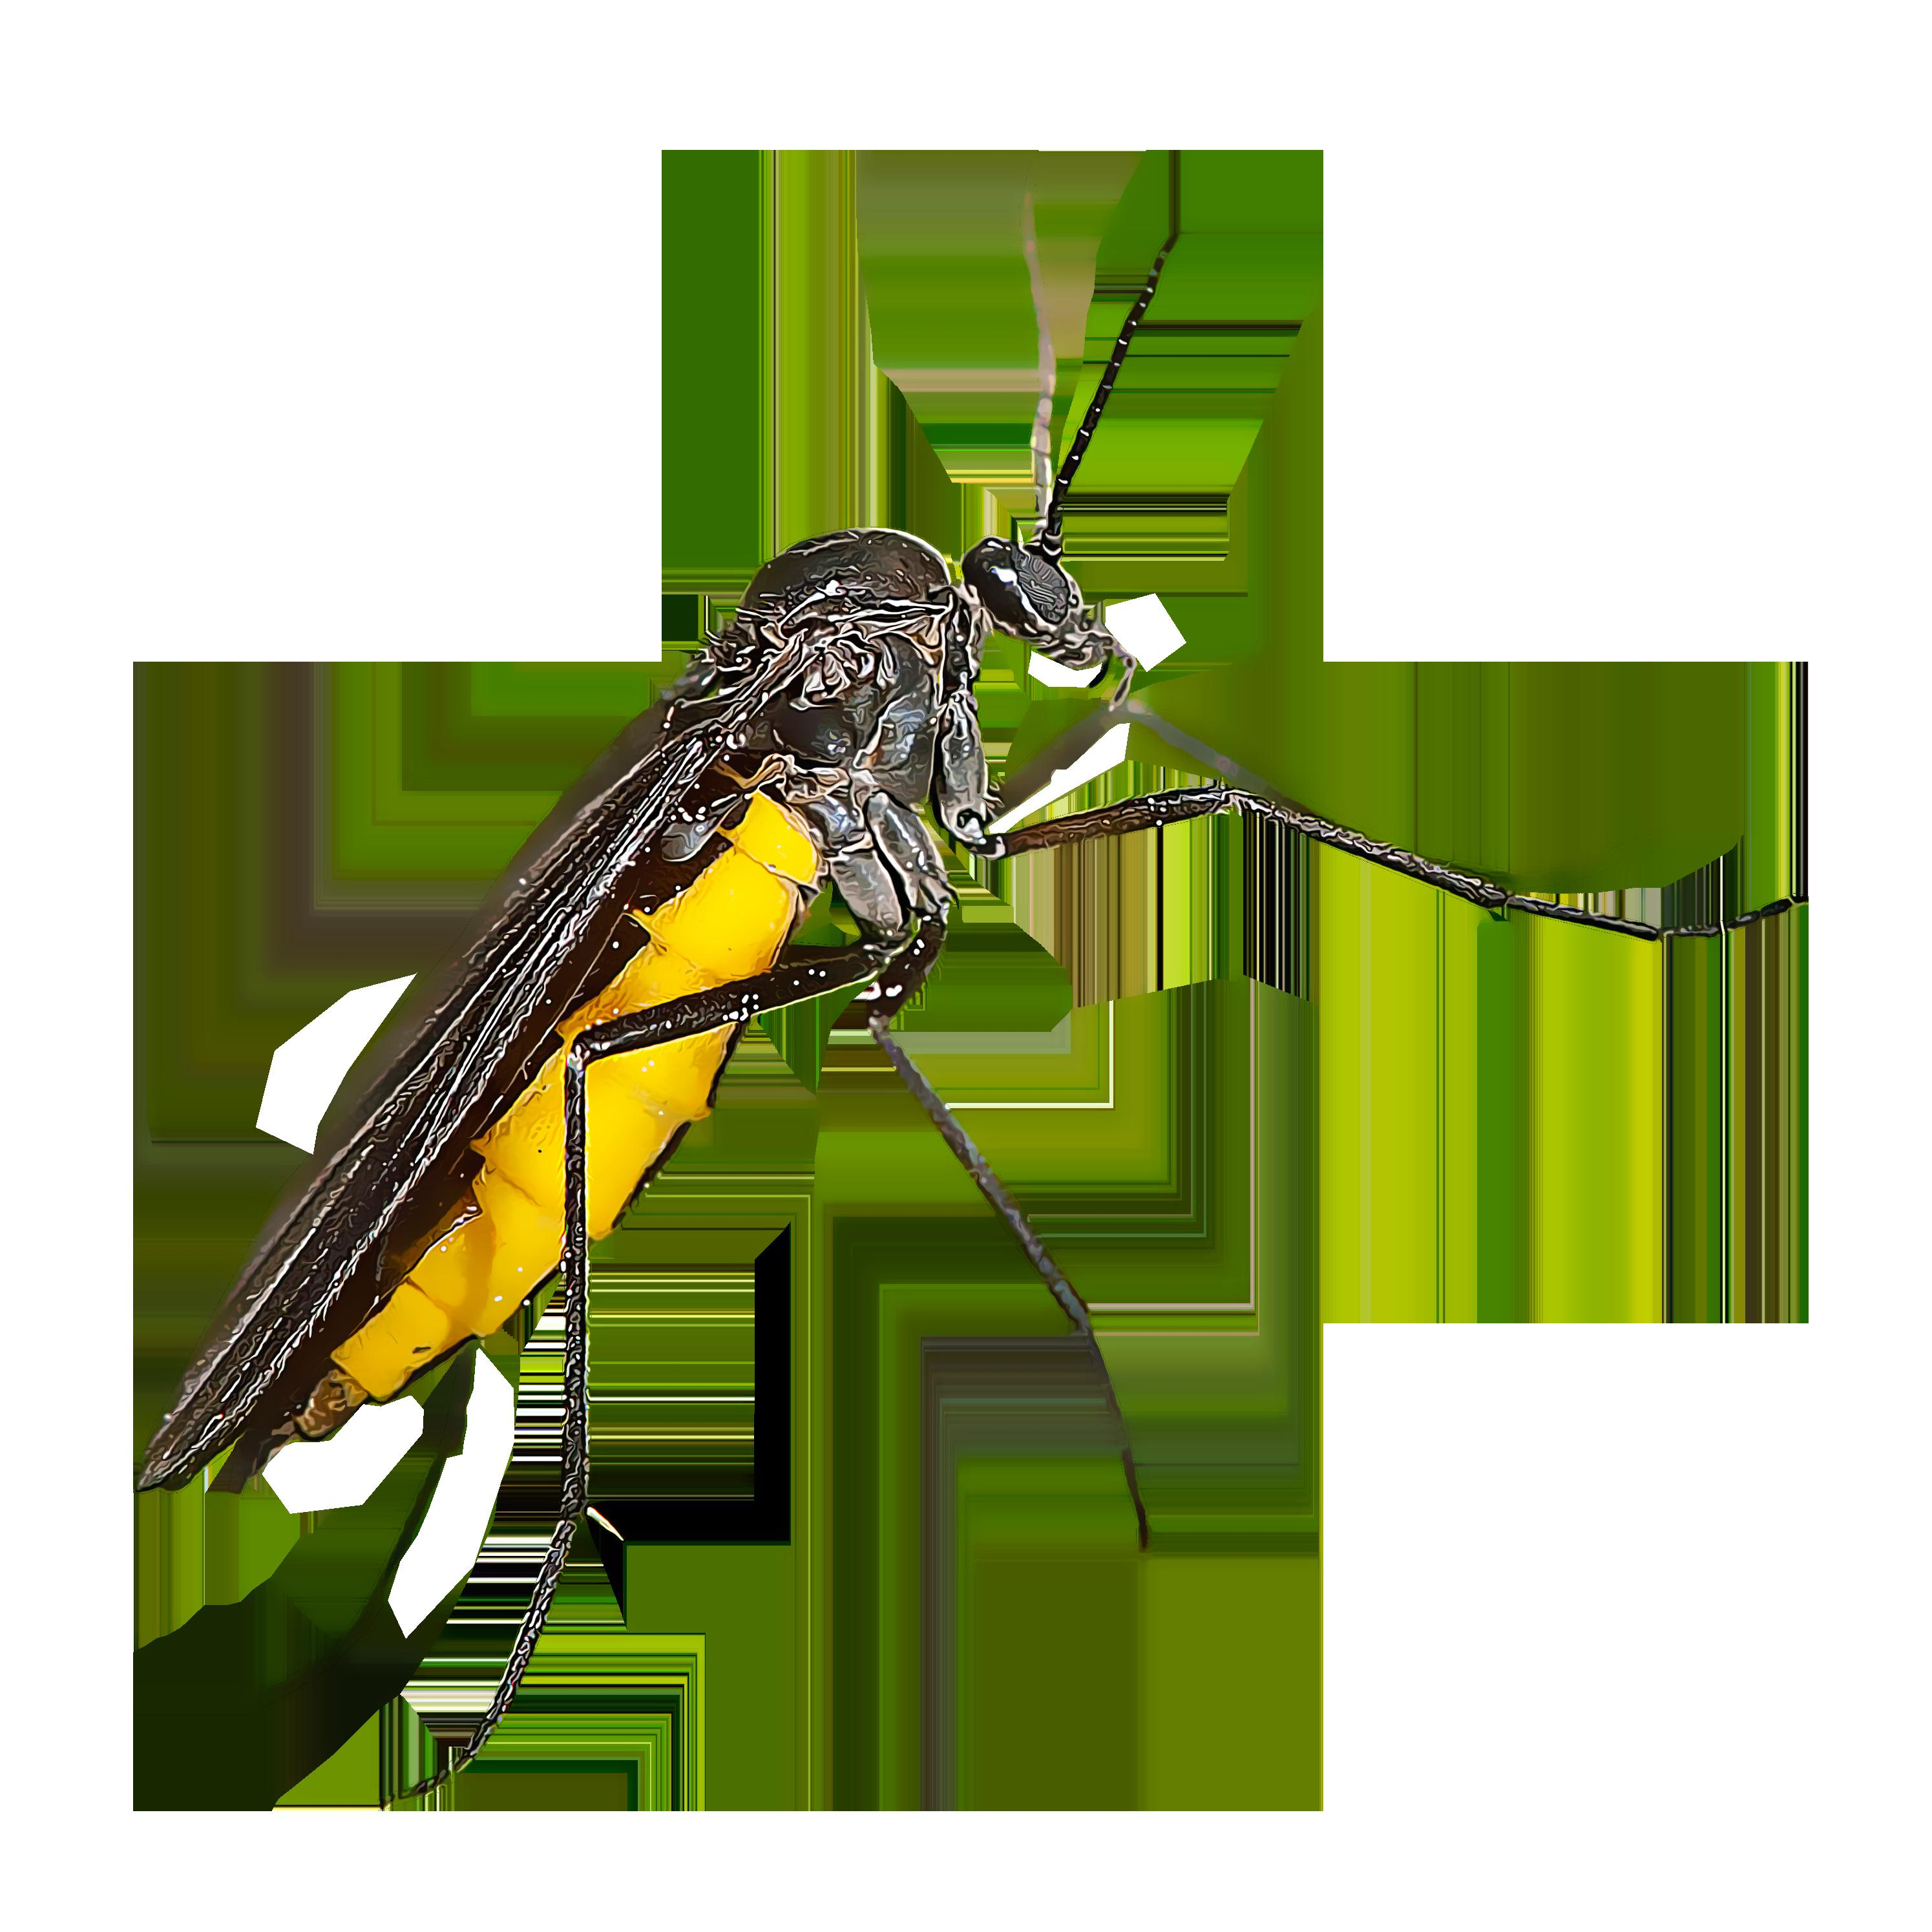Fruit fly: (129, 390, 1430, 1873)
